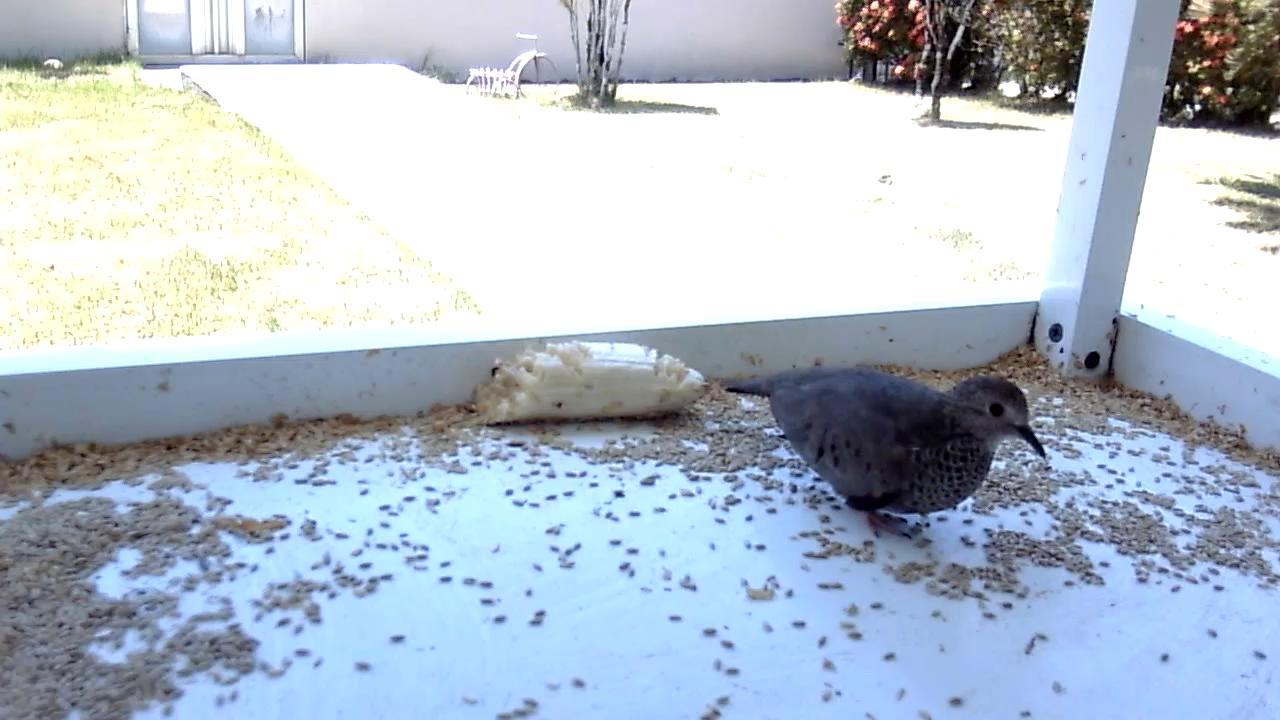rolinha: (723, 367, 1052, 544)
